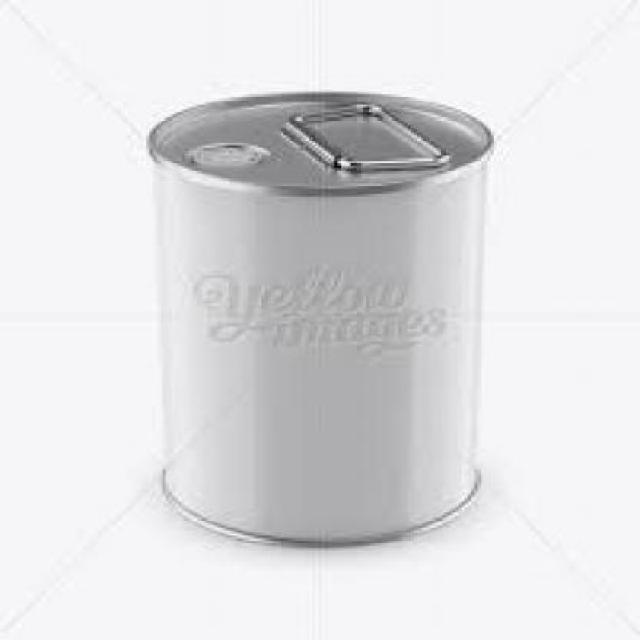METAL: (143, 89, 491, 546)
